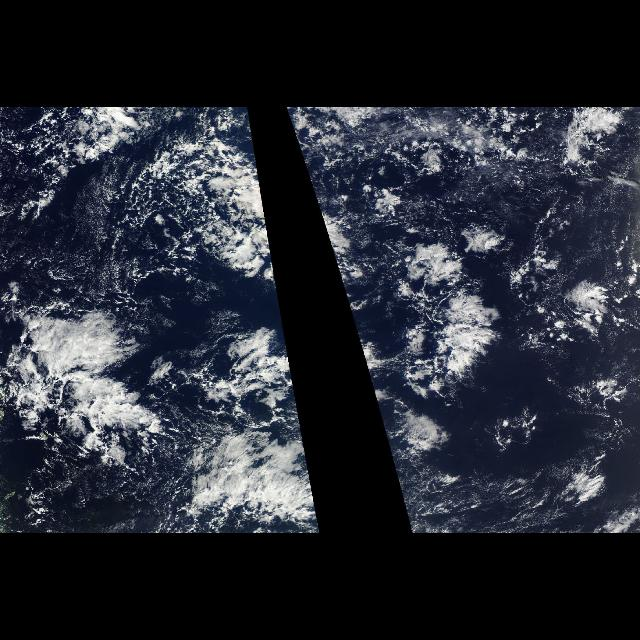Flower: (369, 215, 629, 507)
Sugar: (52, 168, 165, 306)
